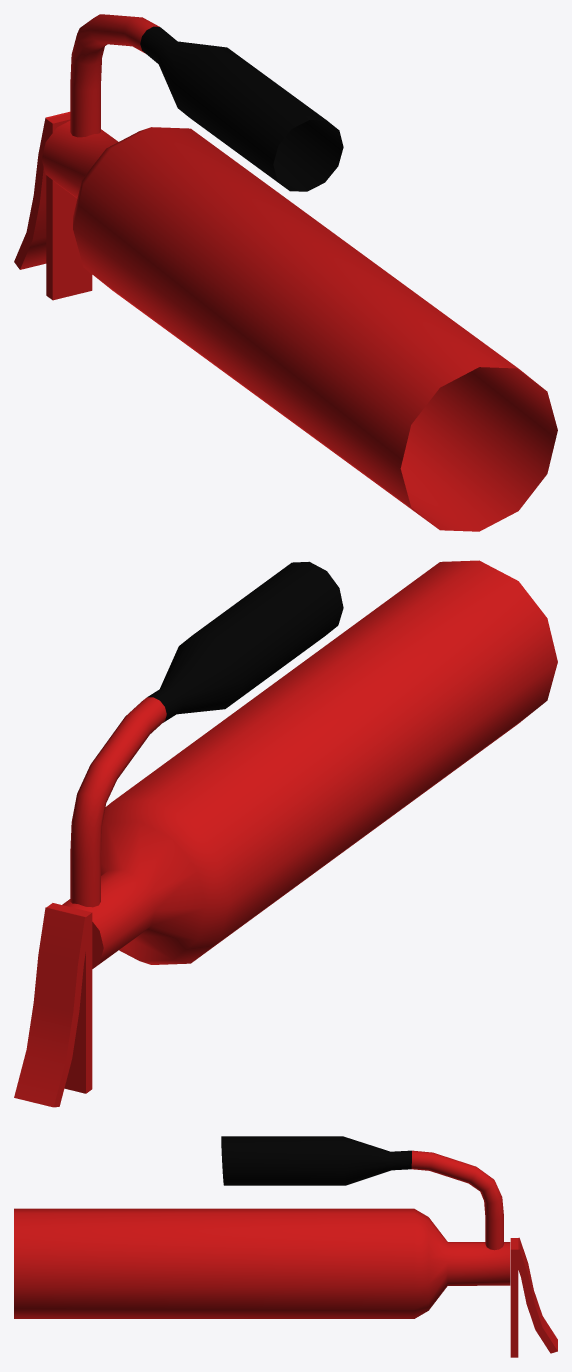
The picture shows the model from 3 angles, top to bottom: view 1: azimuth 30°, elevation 25°; view 2: azimuth 150°, elevation 25°; view 3: azimuth 270°, elevation 25°; orthographic projection. The views are drawn at different scales.
Parts seen in each view (by area): view 1: Circle; view 2: Circle; view 3: Circle.
Part boxes in pixels (x1=…): Circle: x1=14, y1=14, x2=557, y2=531; Circle: x1=14, y1=560, x2=557, y2=1107; Circle: x1=14, y1=1136, x2=557, y2=1357.
Bounding box in the file's own units: 15.2 × 32.23 × 74.55.
